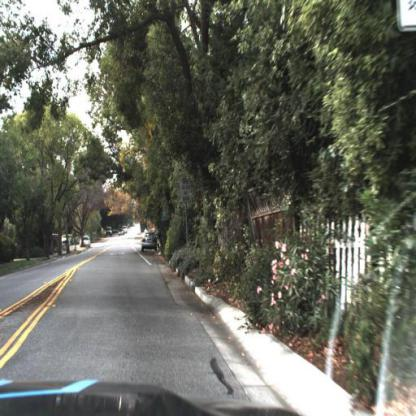car: (138, 228, 160, 257), (140, 229, 160, 256)
